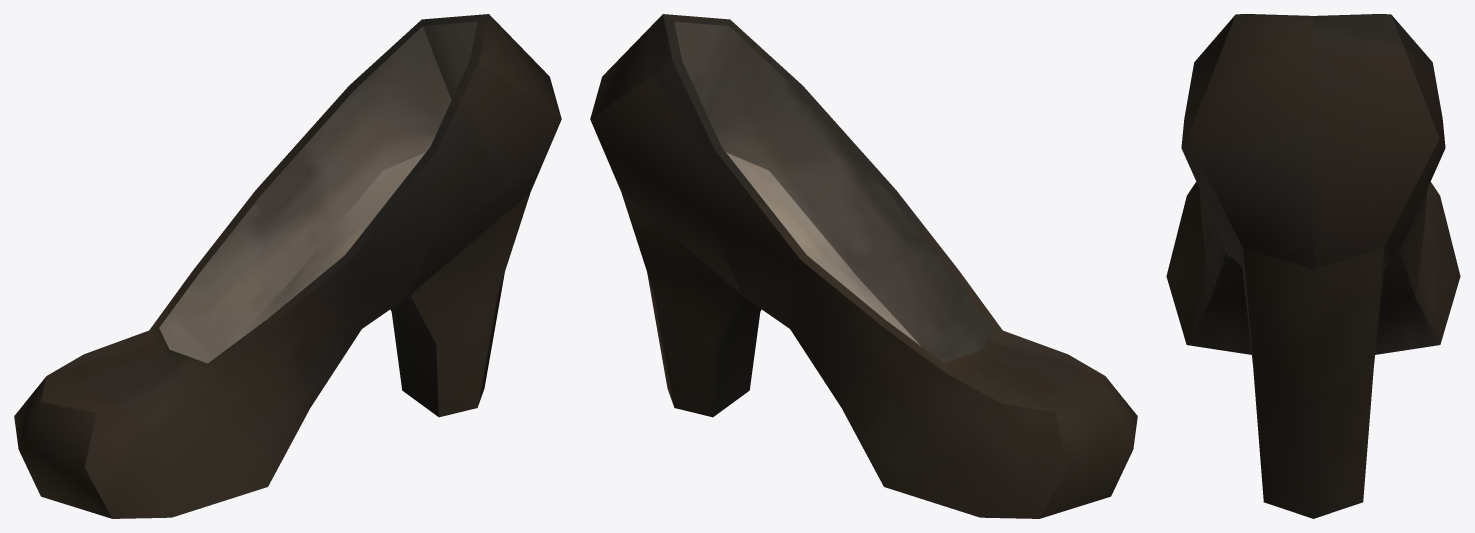
The model's file is Shoe.glb.
3 renders of one model, left to right at view 1: azimuth 30°, elevation 25°; view 2: azimuth 150°, elevation 25°; view 3: azimuth 270°, elevation 25°, orthographic. The views are drawn at different scales.
Visible parts, largest first — view 1: polySurface140 theatre:Mesh; view 2: polySurface140 theatre:Mesh; view 3: polySurface140 theatre:Mesh.
Part boxes in pixels (x1=…): polySurface140 theatre:Mesh: x1=14, y1=14, x2=561, y2=518; polySurface140 theatre:Mesh: x1=590, y1=14, x2=1137, y2=518; polySurface140 theatre:Mesh: x1=1166, y1=14, x2=1460, y2=518.
Size of the model in its own units: 20.41 by 13.7 by 7.23.
1 material, 1 textured.
